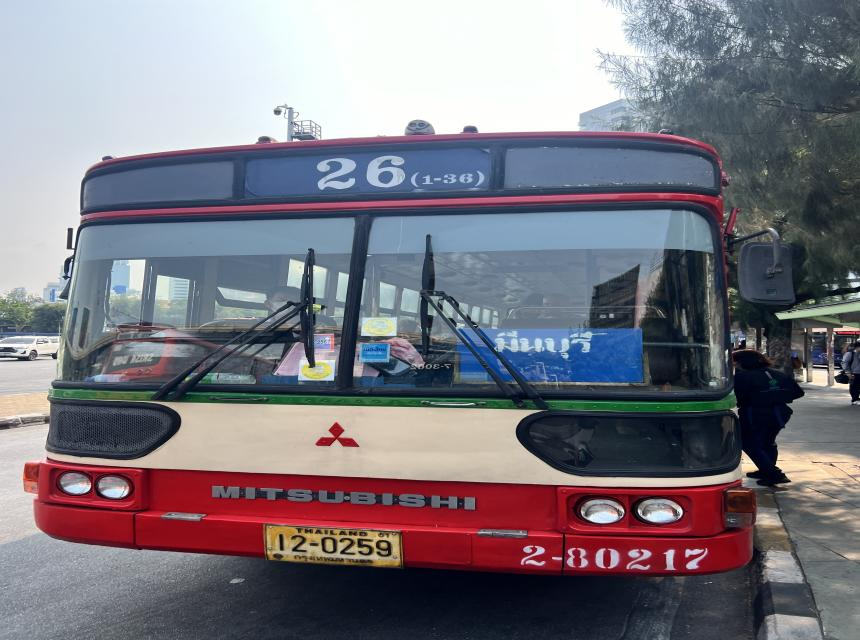BMTA-bus: (25, 127, 757, 580)
Bus Line Number: (237, 150, 500, 201)
Bus Side Number: (506, 540, 714, 574)
Destination Sign: (452, 328, 653, 386)
